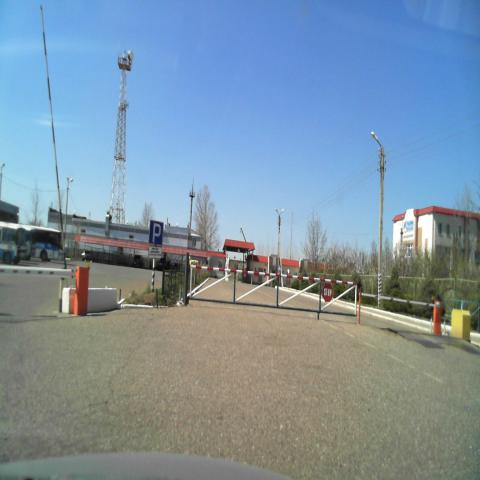2_5: (321, 283, 333, 304)
